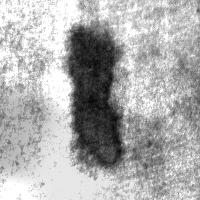patches: (28, 101, 174, 200), (84, 0, 200, 80), (66, 24, 121, 166), (0, 84, 65, 180)
